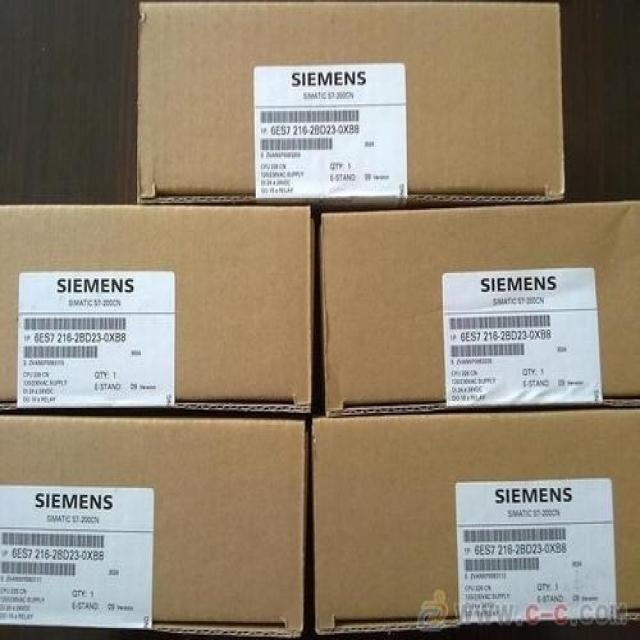Carton: (134, 0, 563, 196), (312, 411, 639, 638), (320, 203, 637, 411), (0, 420, 303, 631), (0, 203, 308, 403)
